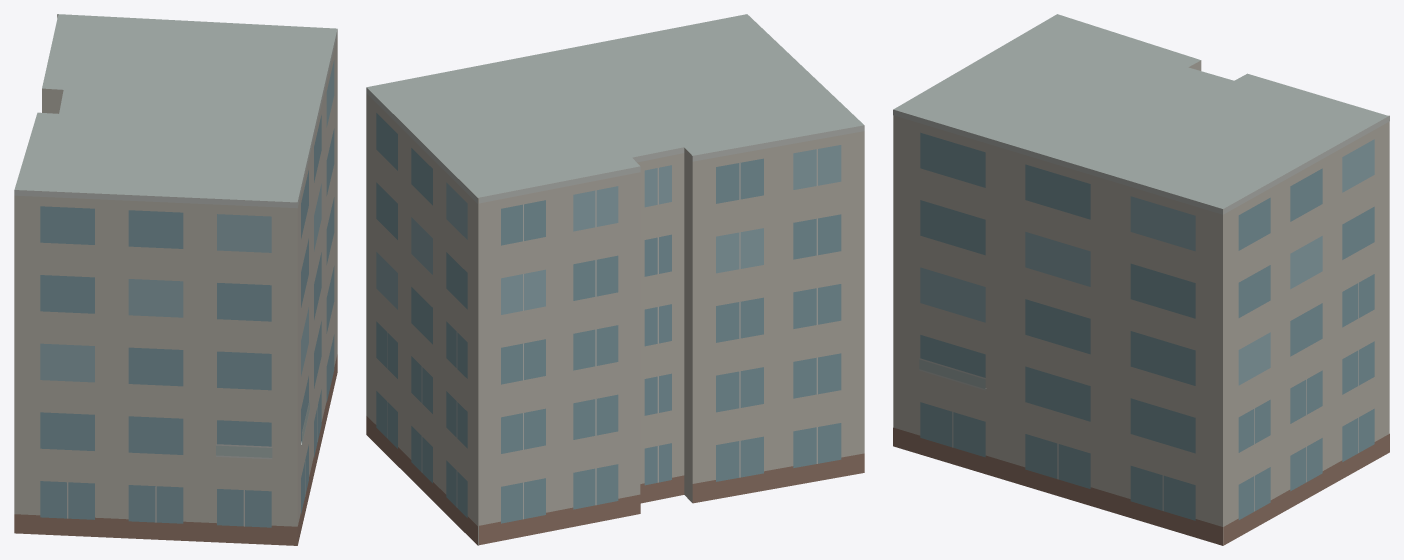
Rendered from survey-upis-33047294.glb.
3 renders of one model, left to right at view 1: azimuth 30°, elevation 25°; view 2: azimuth 150°, elevation 25°; view 3: azimuth 270°, elevation 25°, orthographic. The views are drawn at different scales.
Parts seen in each view (by area): view 1: survey-upis-33047294.tmp; view 2: survey-upis-33047294.tmp; view 3: survey-upis-33047294.tmp.
Part boxes in pixels (x1,y1,x2,y2): survey-upis-33047294.tmp: [14, 14, 337, 545]; survey-upis-33047294.tmp: [366, 14, 864, 545]; survey-upis-33047294.tmp: [893, 14, 1389, 545].
Size of the model in its own units: 18.02 by 14.5 by 19.39.
